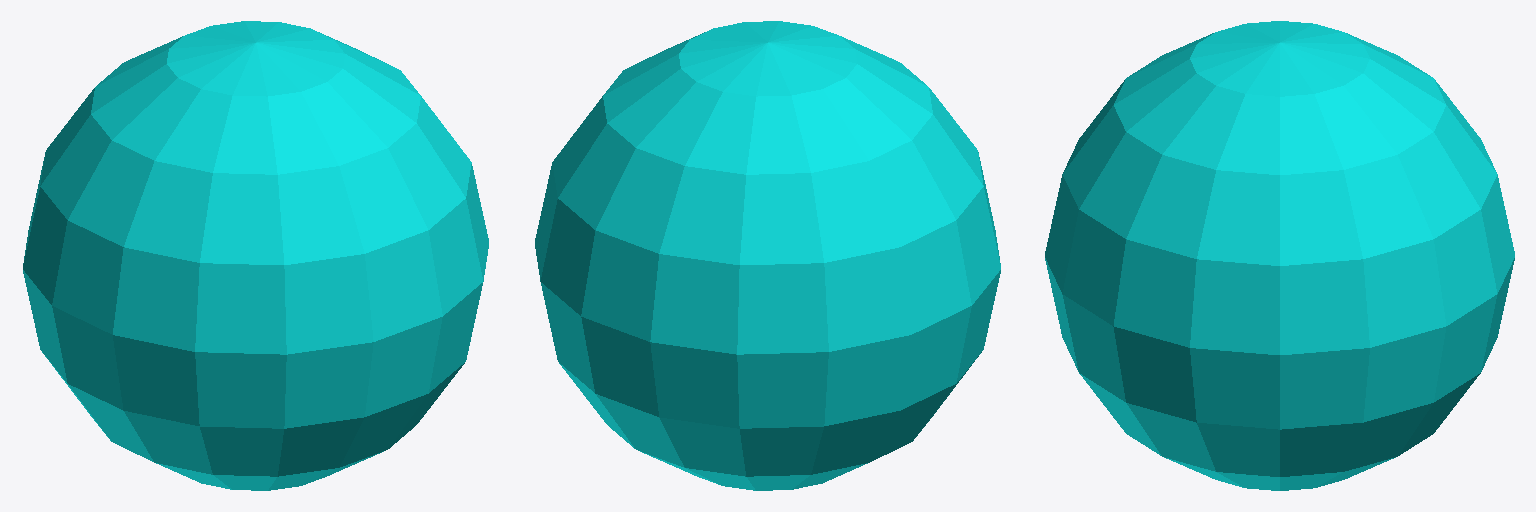
Rendered from ballcyan.obj.
3 views of the same model, side by side, from view 1: azimuth 30°, elevation 25°; view 2: azimuth 150°, elevation 25°; view 3: azimuth 270°, elevation 25° (orthographic).
Visible parts, largest first — view 1: Sphere; view 2: Sphere; view 3: Sphere.
Part boxes in pixels (x1,y1,x2,y2): Sphere: (23,21,488,490); Sphere: (535,21,1000,490); Sphere: (1045,21,1514,490).
Bounding box in the file's own units: 2 × 2 × 2.